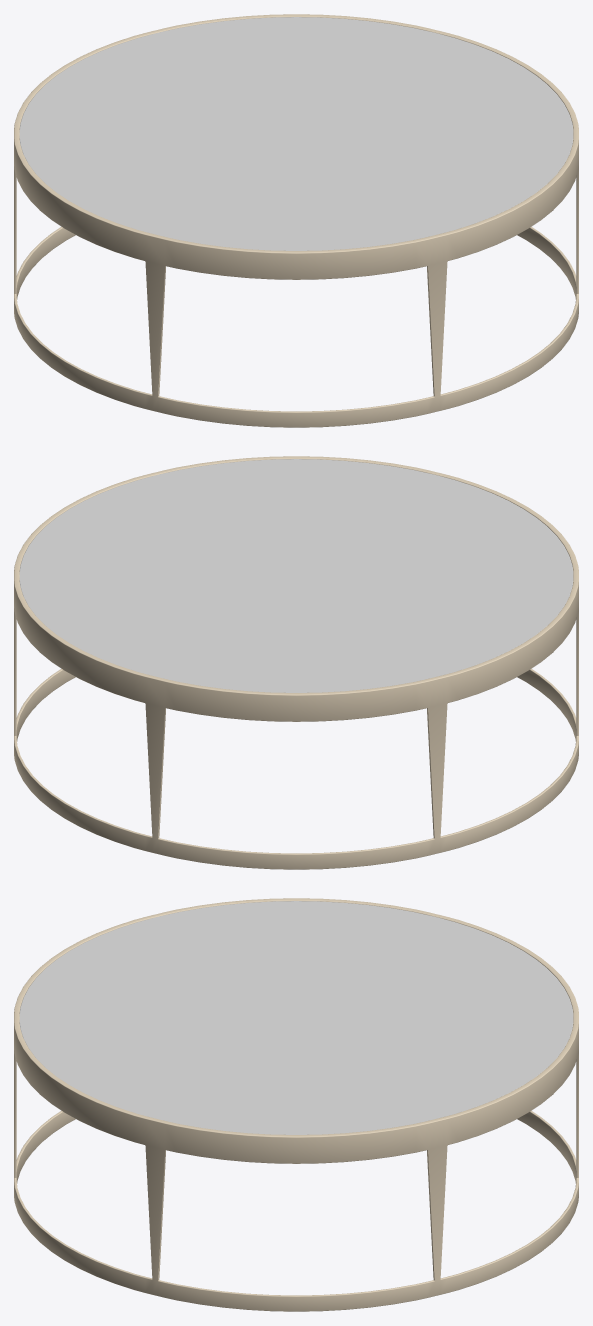
File: Coffee_table.glb
The picture shows the model from 3 angles, top to bottom: view 1: azimuth 30°, elevation 25°; view 2: azimuth 150°, elevation 25°; view 3: azimuth 270°, elevation 25°; orthographic projection.
Visible parts, largest first — view 1: Coffee table glass, Coffee table main; view 2: Coffee table glass, Coffee table main; view 3: Coffee table glass, Coffee table main.
Part boxes in pixels (x1,y1,x2,y2): Coffee table glass: [19, 17, 573, 250]; Coffee table main: [14, 14, 578, 427]; Coffee table glass: [19, 459, 573, 692]; Coffee table main: [14, 456, 578, 869]; Coffee table glass: [19, 901, 573, 1134]; Coffee table main: [14, 898, 578, 1311].
Size of the model in its own units: 1.21 by 0.411 by 1.2.
